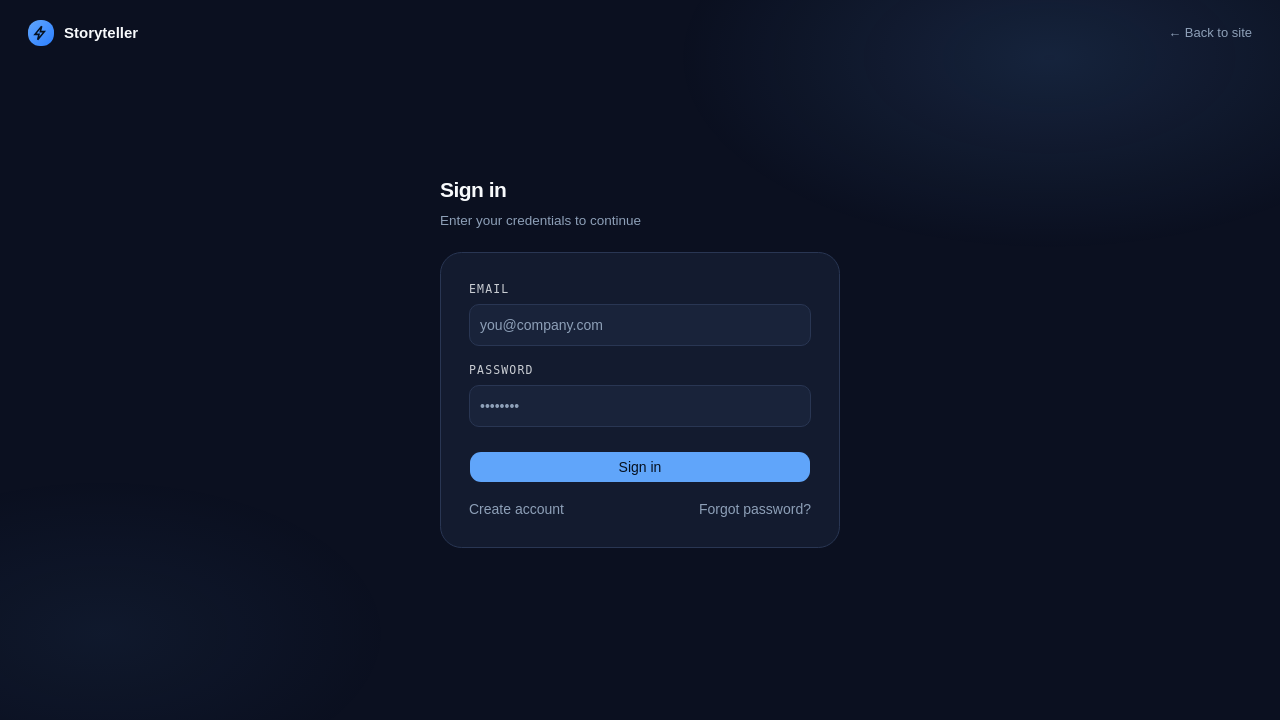
LoginPage › shows validation errors for empty fields on submit
Click the button "Sign in". click: click(640, 467)
box: [469,451,811,483]
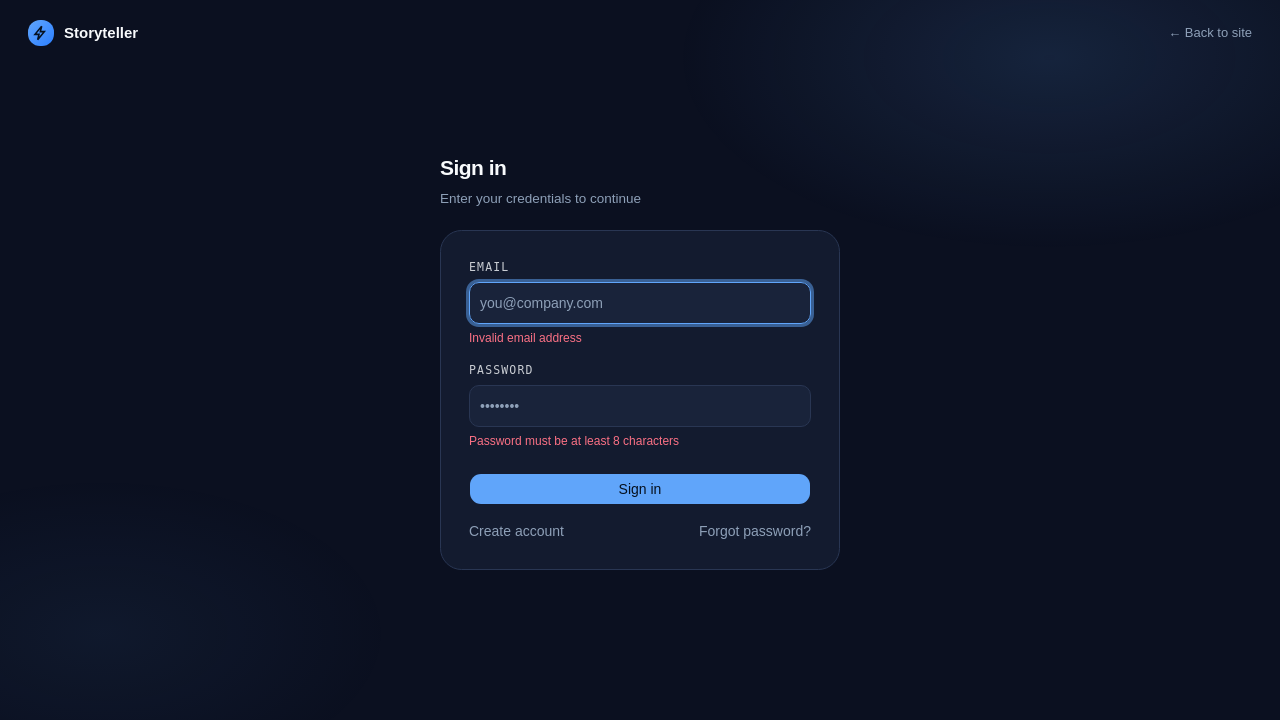
Expected: the text "Invalid email address" is shown, [469,331,582,345]
